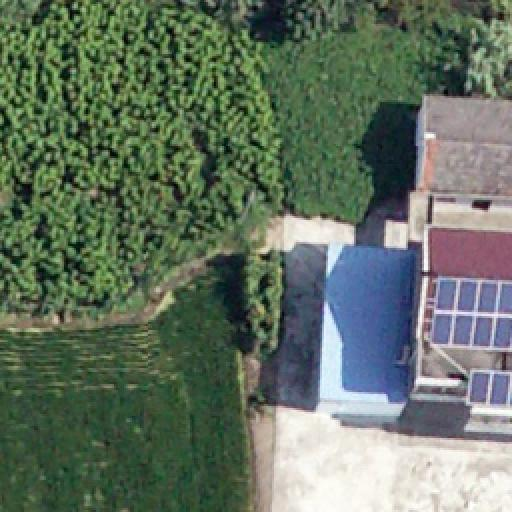solar-panel: (425, 268, 512, 362), (450, 360, 512, 419)
